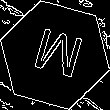M_S: (26, 24, 84, 86)
